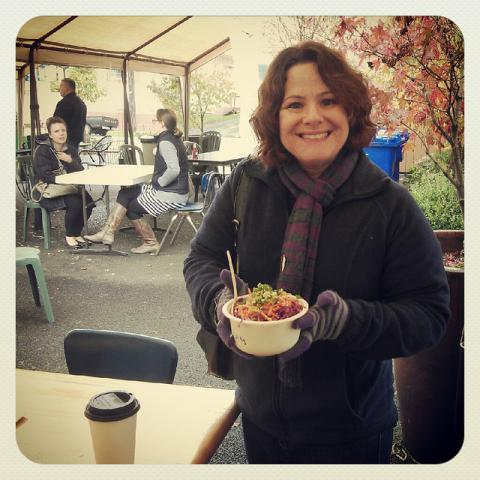truck: (85, 116, 118, 136)
